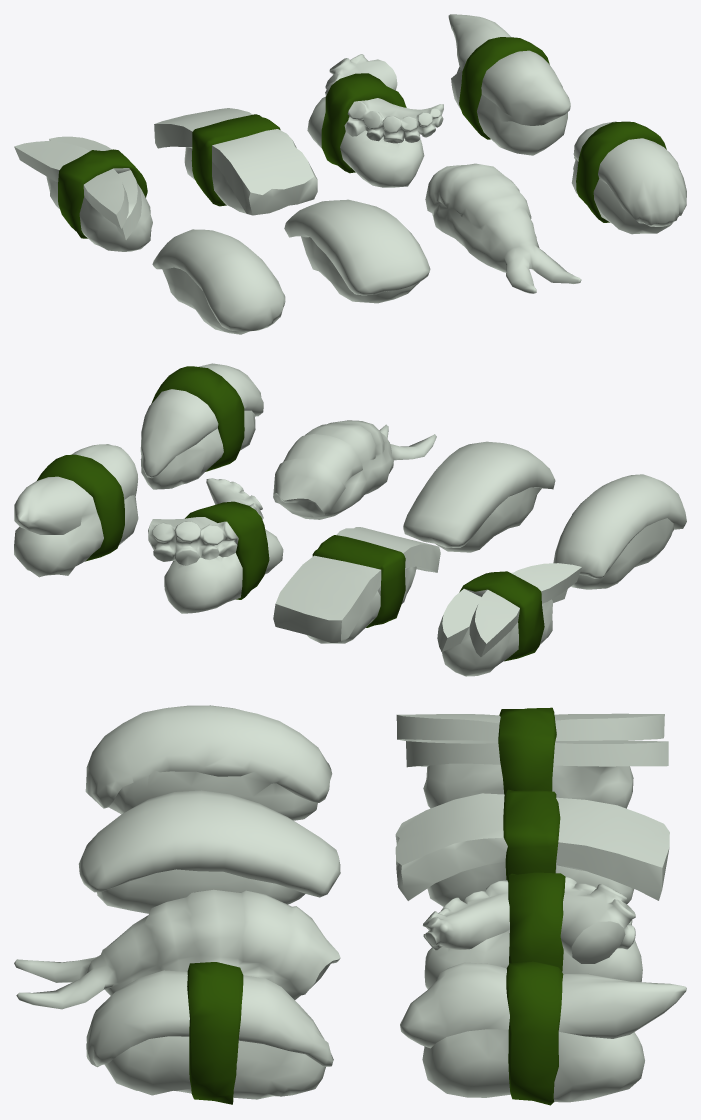
The model's file is Sushies.fbx.
3 views of the same model, one above another, from view 1: azimuth 30°, elevation 25°; view 2: azimuth 150°, elevation 25°; view 3: azimuth 270°, elevation 25° (orthographic). The views are drawn at different scales.
Visible parts, largest first — view 1: model_0.008, model_0.006, model_0.007, model_0.010, model_0.012, model_0.011, model_0.005, model_0.009; view 2: model_0.008, model_0.006, model_0.007, model_0.012, model_0.010, model_0.005, model_0.009, model_0.011; view 3: model_0.008, model_0.012, model_0.006, model_0.010, model_0.005, model_0.009, model_0.011, model_0.007.
Part boxes in pixels (bbox=[...]): model_0.008: bbox=[448, 14, 570, 155]; model_0.006: bbox=[154, 108, 317, 215]; model_0.007: bbox=[307, 54, 443, 187]; model_0.010: bbox=[284, 199, 430, 303]; model_0.012: bbox=[571, 121, 686, 234]; model_0.011: bbox=[425, 163, 581, 293]; model_0.005: bbox=[14, 136, 152, 251]; model_0.009: bbox=[152, 229, 285, 334]; model_0.008: bbox=[14, 444, 138, 577]; model_0.006: bbox=[273, 527, 440, 643]; model_0.007: bbox=[148, 478, 283, 613]; model_0.012: bbox=[140, 363, 263, 489]; model_0.010: bbox=[403, 441, 555, 552]; model_0.005: bbox=[437, 563, 581, 676]; model_0.009: bbox=[553, 474, 686, 589]; model_0.011: bbox=[273, 420, 436, 519]; model_0.008: bbox=[400, 961, 686, 1105]; model_0.012: bbox=[86, 962, 333, 1104]; model_0.006: bbox=[395, 789, 669, 906]; model_0.010: bbox=[78, 790, 340, 913]; model_0.005: bbox=[396, 707, 668, 808]; model_0.009: bbox=[85, 705, 332, 820]; model_0.011: bbox=[14, 889, 340, 1009]; model_0.007: bbox=[422, 872, 642, 989].
Bounding box in the file's own units: 1118 × 202 × 979.
